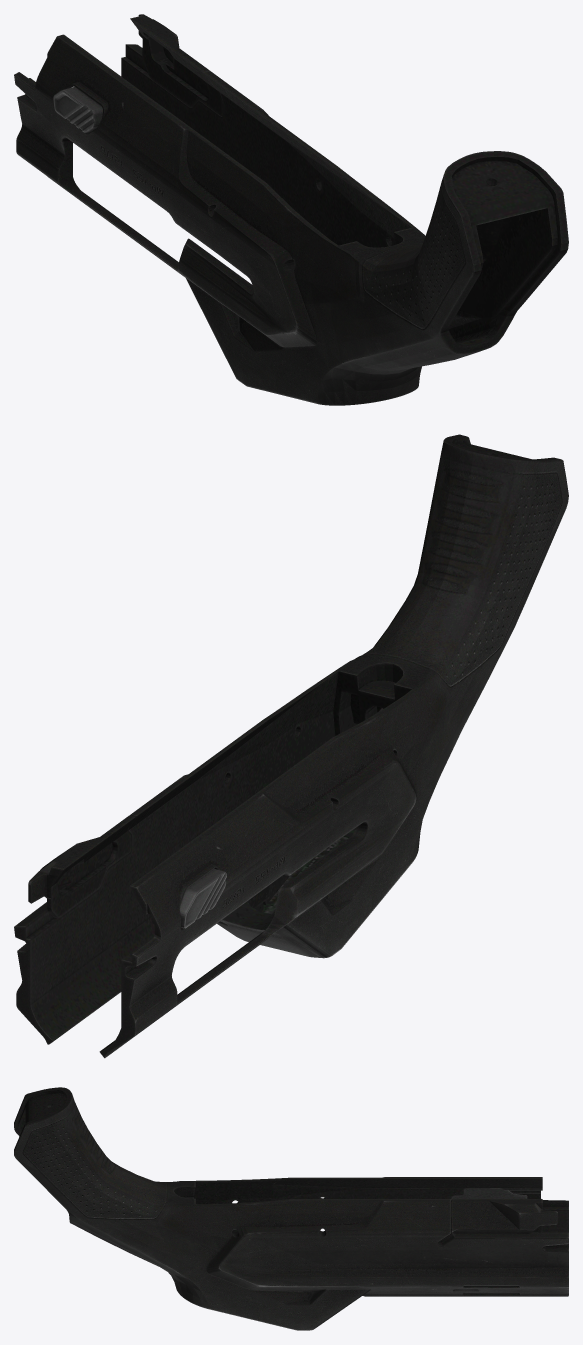
3 renders of one model, top to bottom at view 1: azimuth 30°, elevation 25°; view 2: azimuth 150°, elevation 25°; view 3: azimuth 270°, elevation 25°, orthographic. The views are drawn at different scales.
Parts seen in each view (by area): view 1: TW_606eef46232e5a31c233d500_PZ_Import; view 2: TW_606eef46232e5a31c233d500_PZ_Import; view 3: TW_606eef46232e5a31c233d500_PZ_Import.
Boxes of the visible parts, x1,y1,x2,y2 form: TW_606eef46232e5a31c233d500_PZ_Import: (14, 14, 568, 405); TW_606eef46232e5a31c233d500_PZ_Import: (14, 434, 568, 1058); TW_606eef46232e5a31c233d500_PZ_Import: (14, 1087, 568, 1330).
Bounding box in the file's own units: 0.0305 × 0.18 × 0.0788.
1 material, 1 textured.
